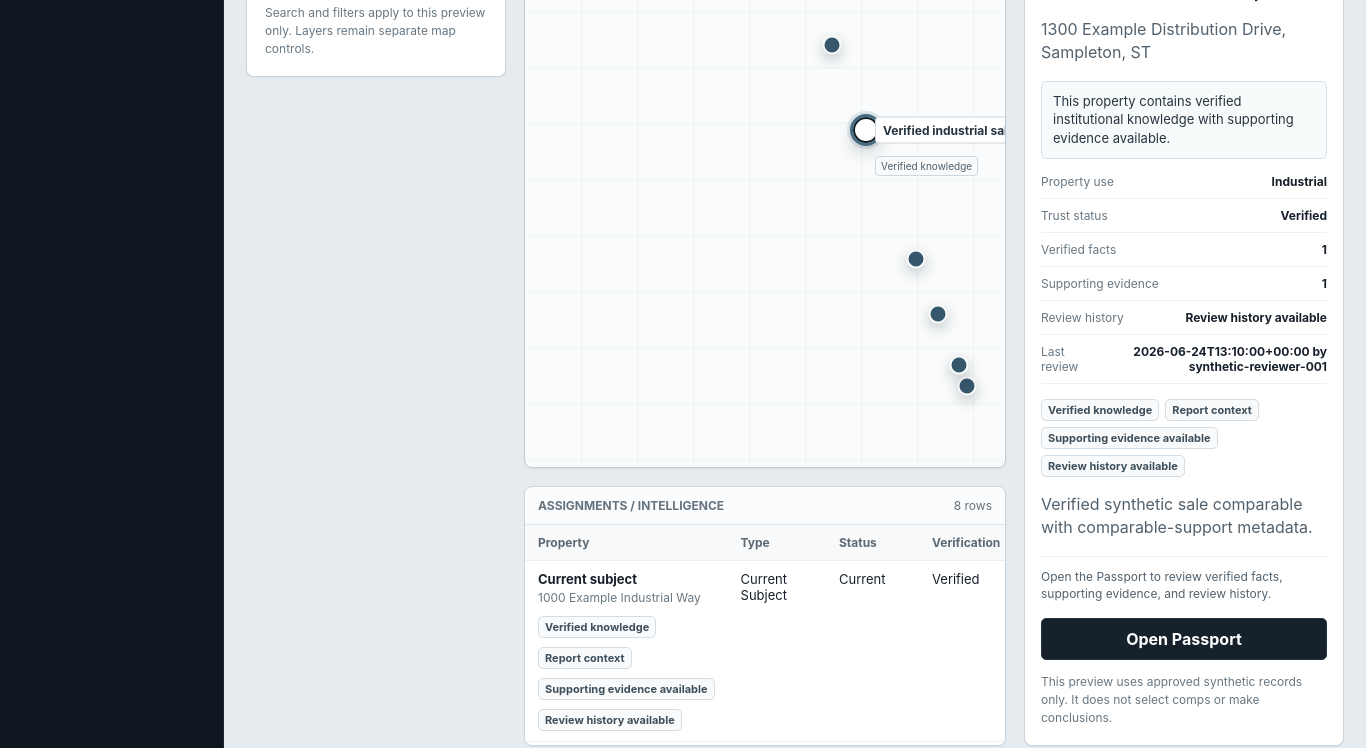
it: IntelligenceWorkspacePreview › opens evidence from the passport drawer and preserves workspace context
This screenshot has width=1366, height=748.
(page scrolled)
What coordinates should you click on to do the following:
click the button named "Select Current subject"
I would click on:
 (967, 386)
Its box is [957,376,976,396].
(page scrolled)
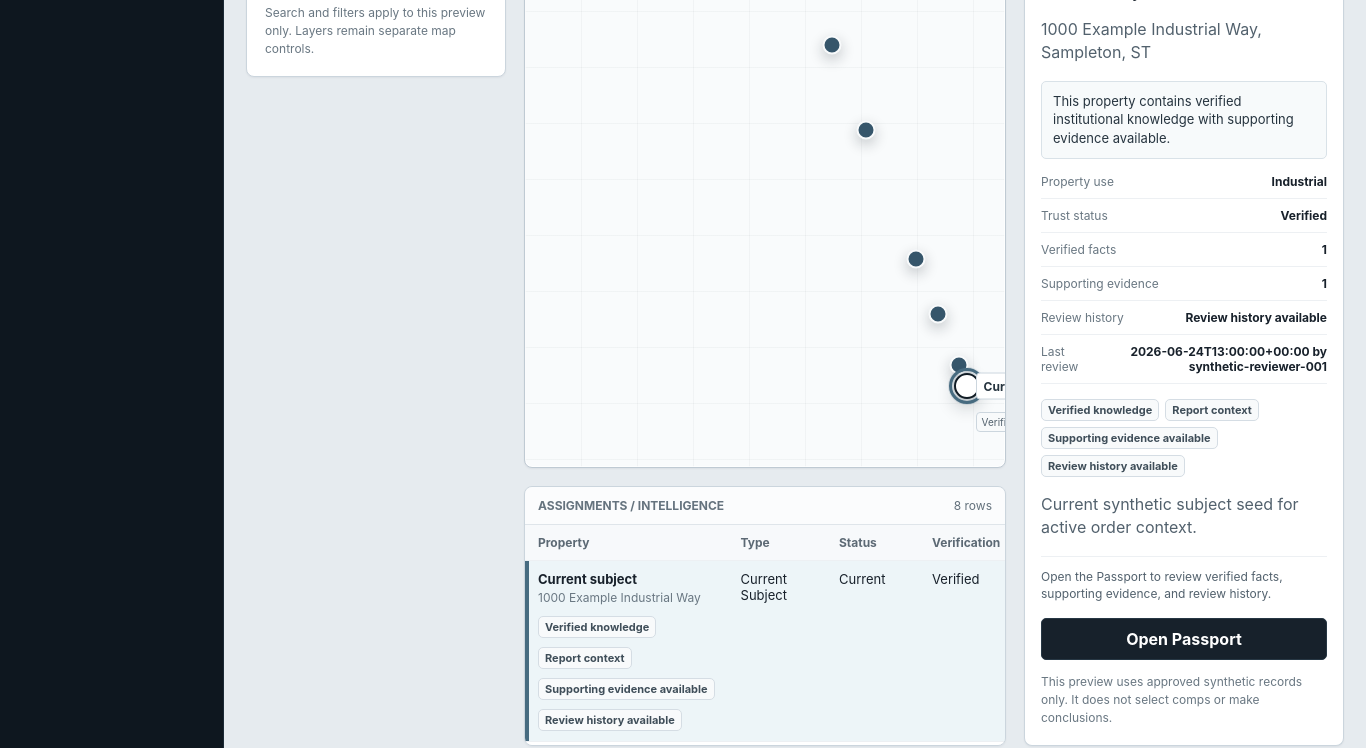
What coordinates should you click on to do the following:
click the button "Open Passport"
I would click on:
 (1184, 639)
Its box is [1041,618,1327,660].
(page scrolled)
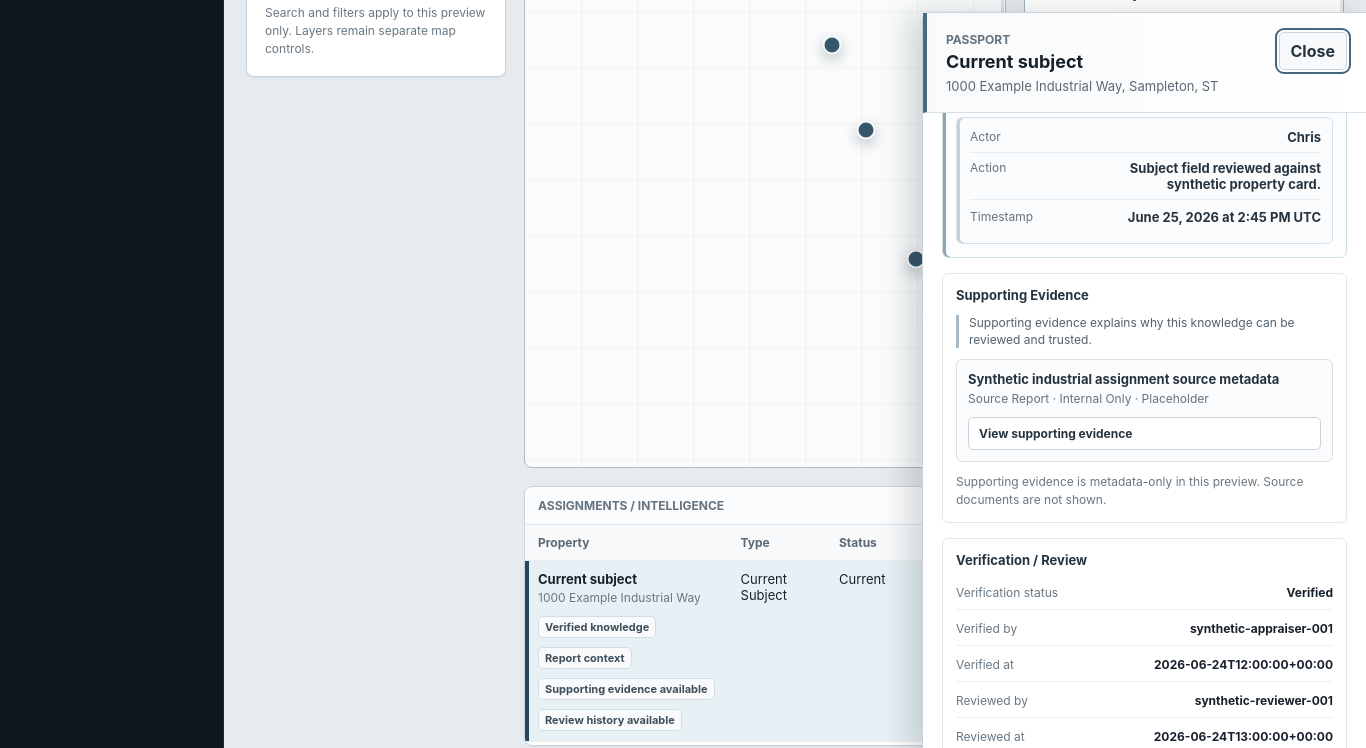
What coordinates should you click on to do the following:
click the button "View supporting evidence"
I would click on:
 (1056, 434)
Its box is [968,417,1321,450].
(page scrolled)
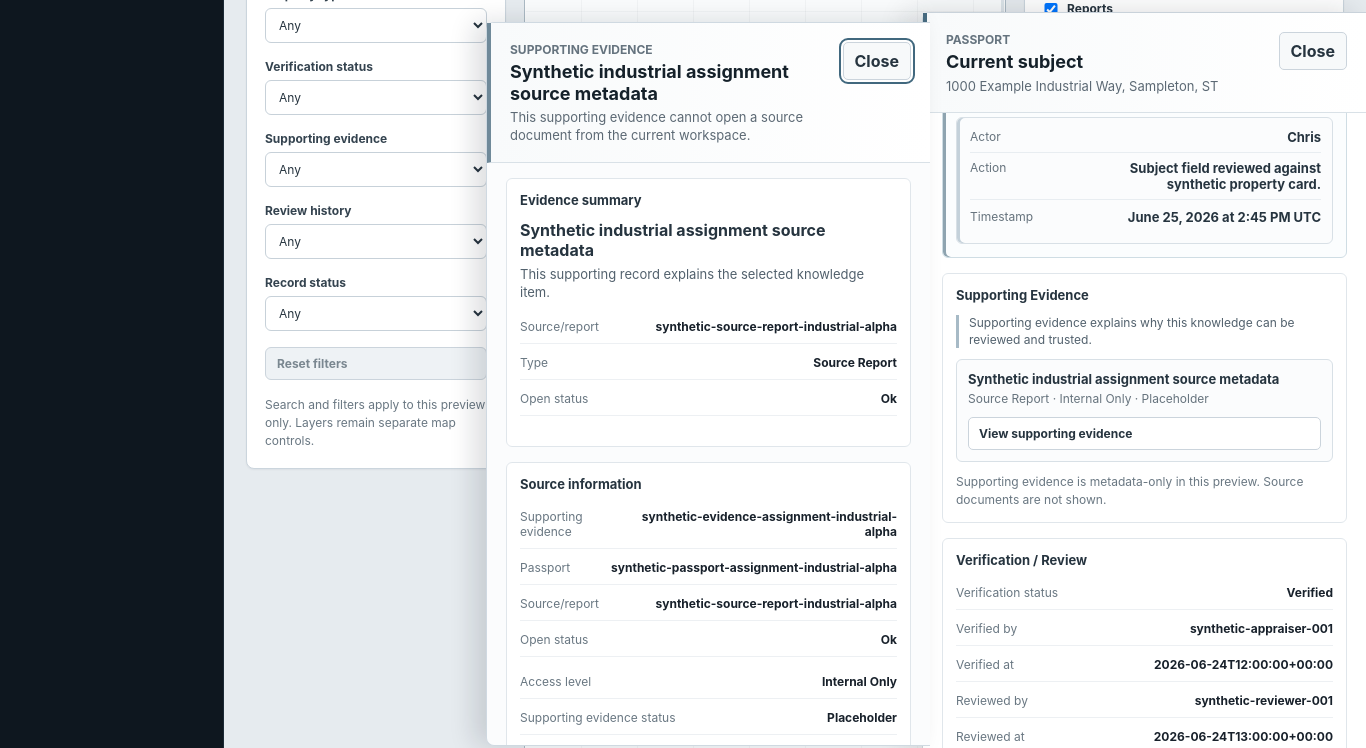
Expected: the heading "Current subject" is shown, [946,51,1083,72]
Expected: the heading "Synthetic industrial assignment source metadata" is shown, [510,61,824,104]
Expected: the heading "Evidence summary" is shown, [520,192,642,208]
